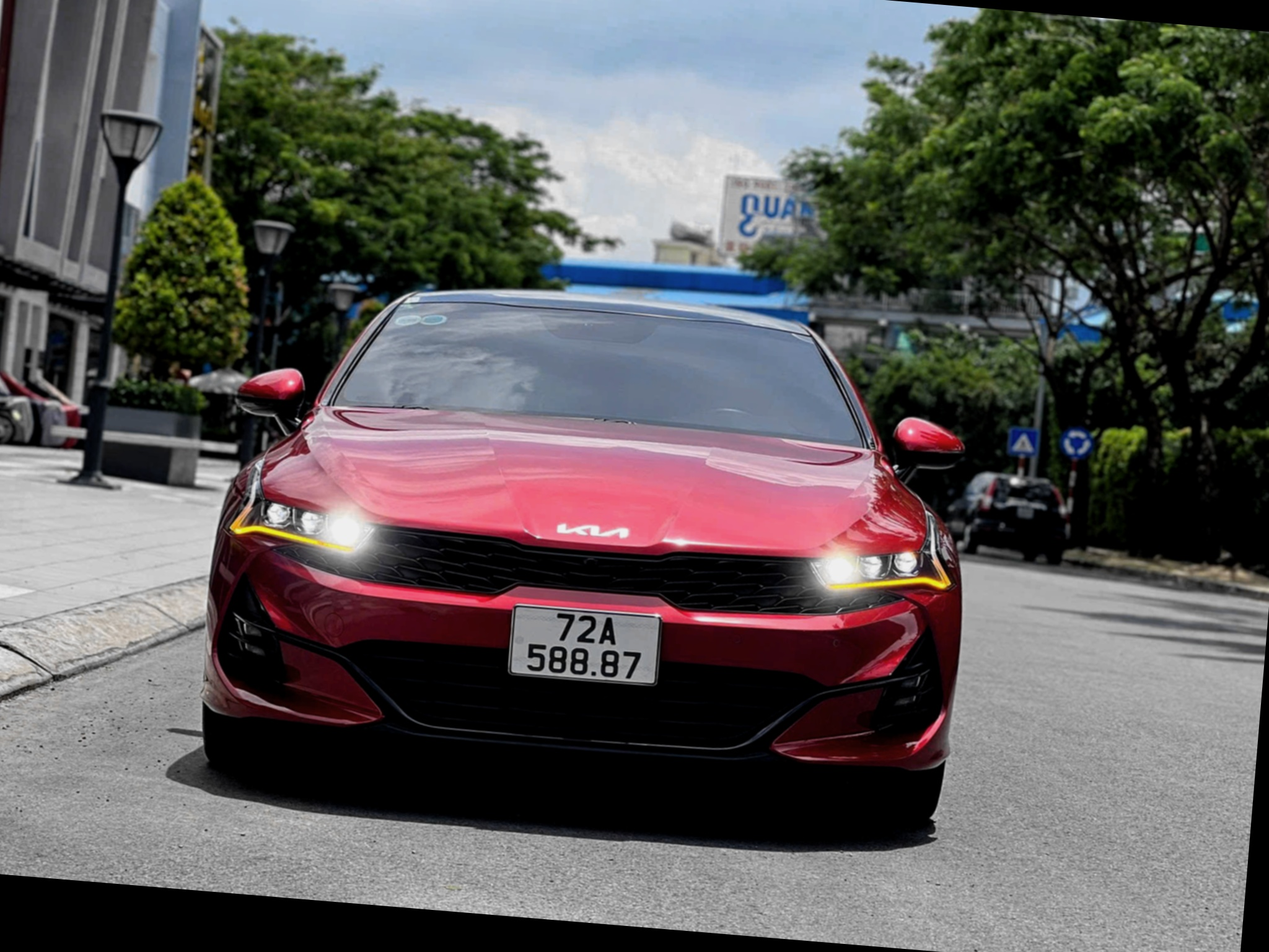Bien-so: (547, 630, 690, 722)
